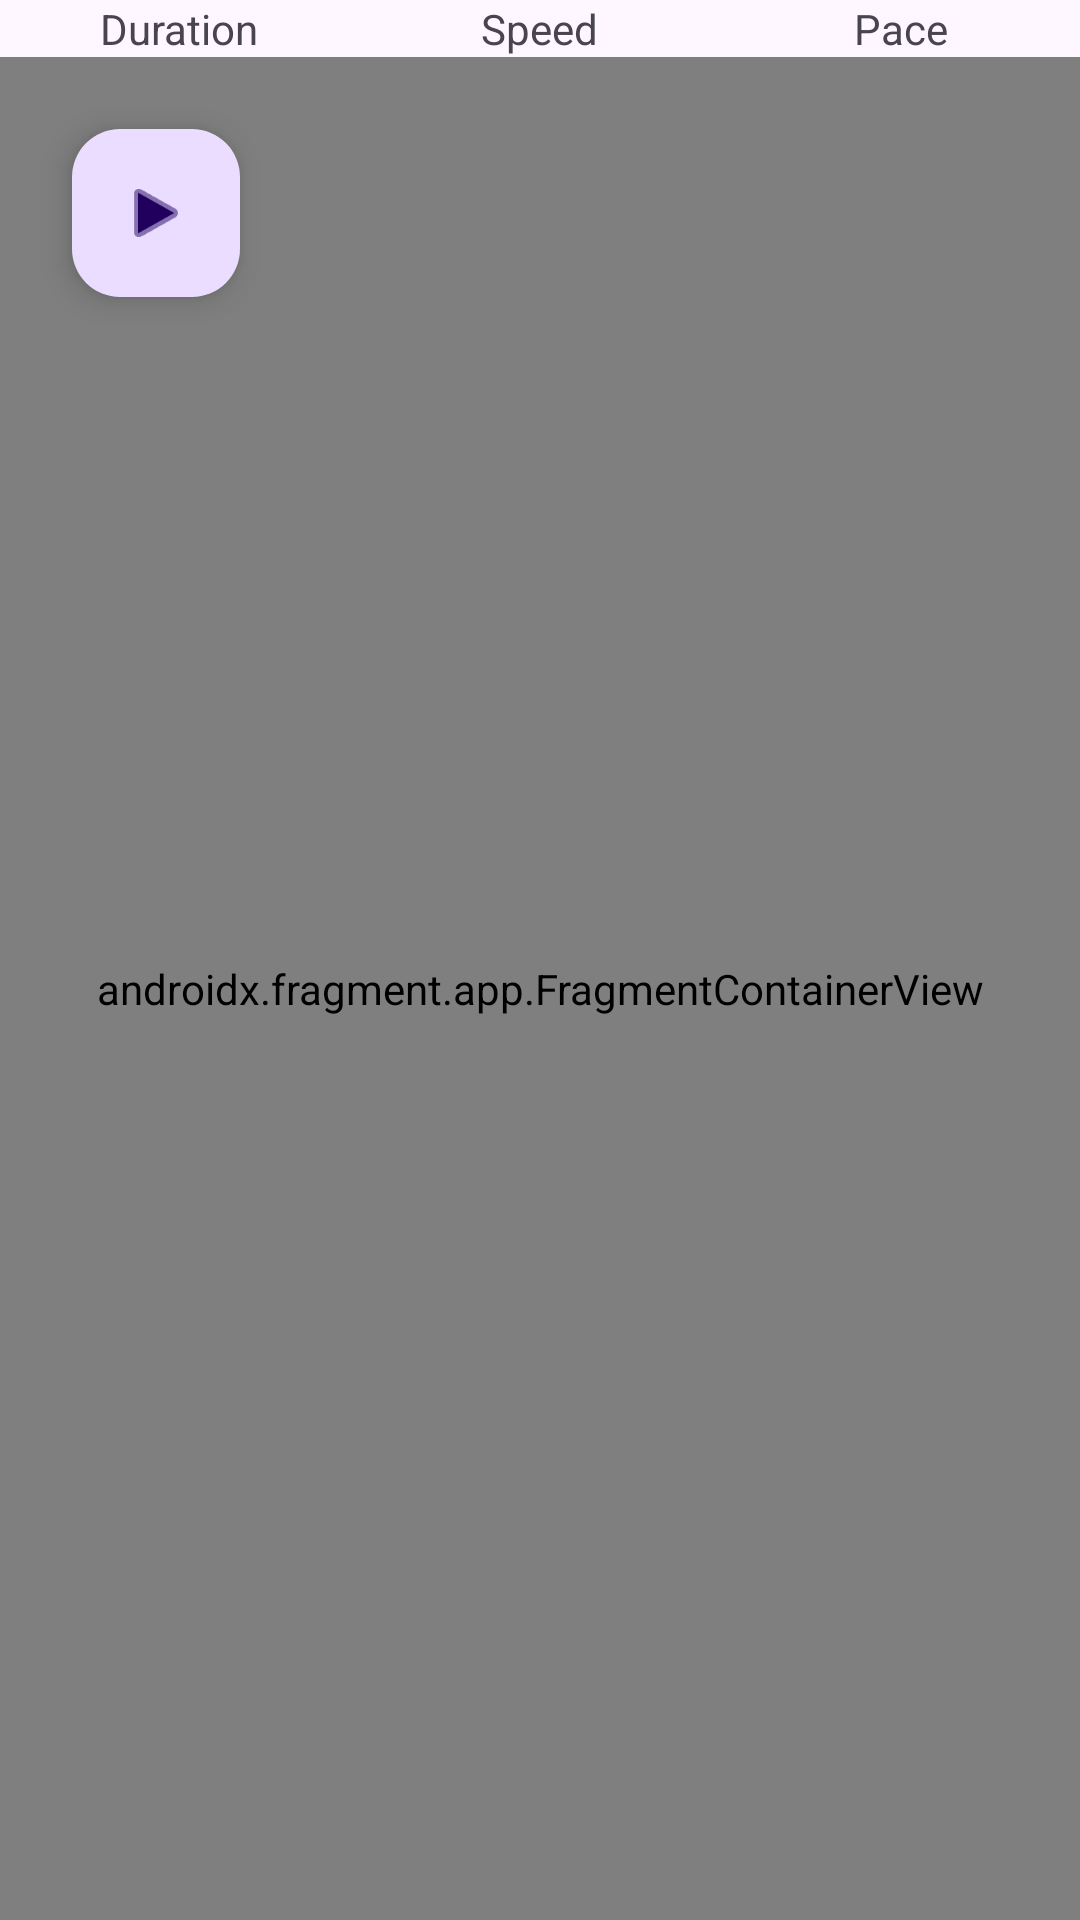

Icons on this 1080x1920 Android screen, each with its box as (x1, y1, x2, y2):
Start: (72, 129, 240, 297)
